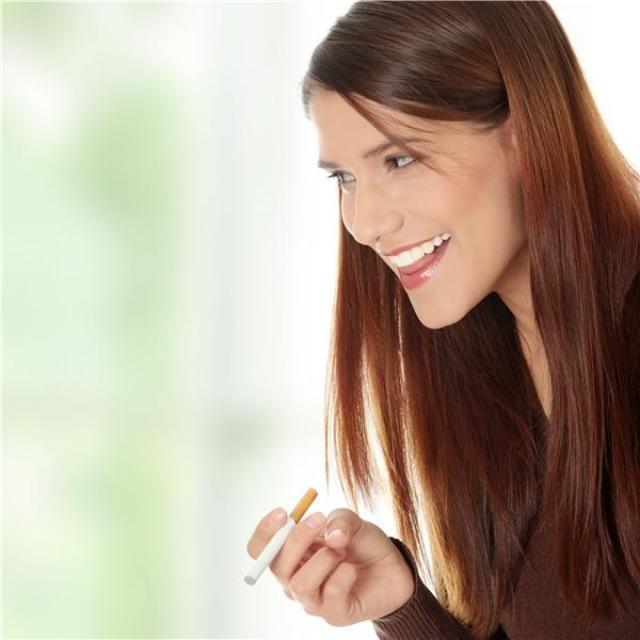rokok: (246, 488, 316, 586)
